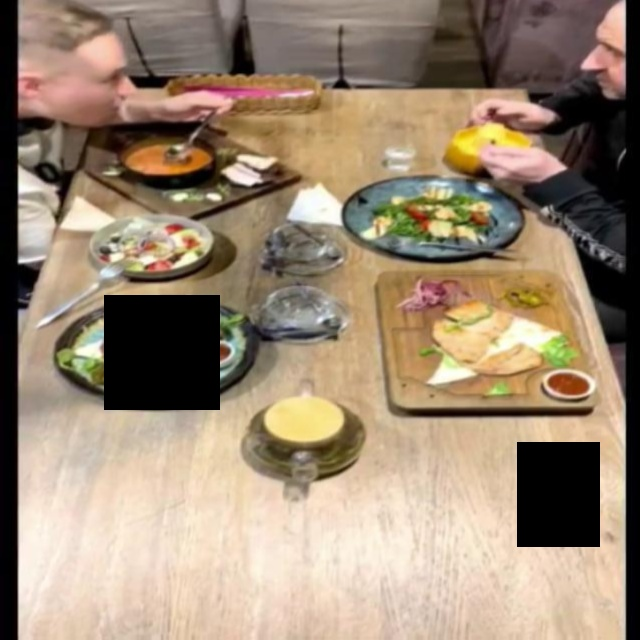meat: (373, 270, 602, 410), (50, 295, 260, 405)
salad: (344, 176, 526, 260), (85, 213, 214, 278)
soup: (78, 121, 302, 220), (442, 123, 530, 175)
tea: (242, 395, 367, 480)
